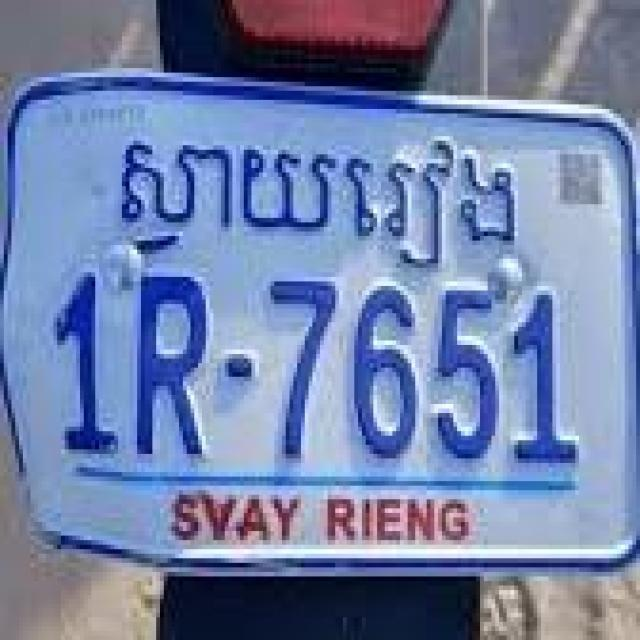Svay_Rieng: (116, 126, 532, 272)
